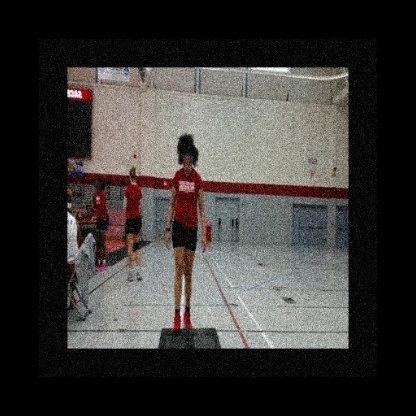lateral_flexion_right: (166, 131, 208, 337)
stance_width_narrow: (165, 165, 208, 337)
